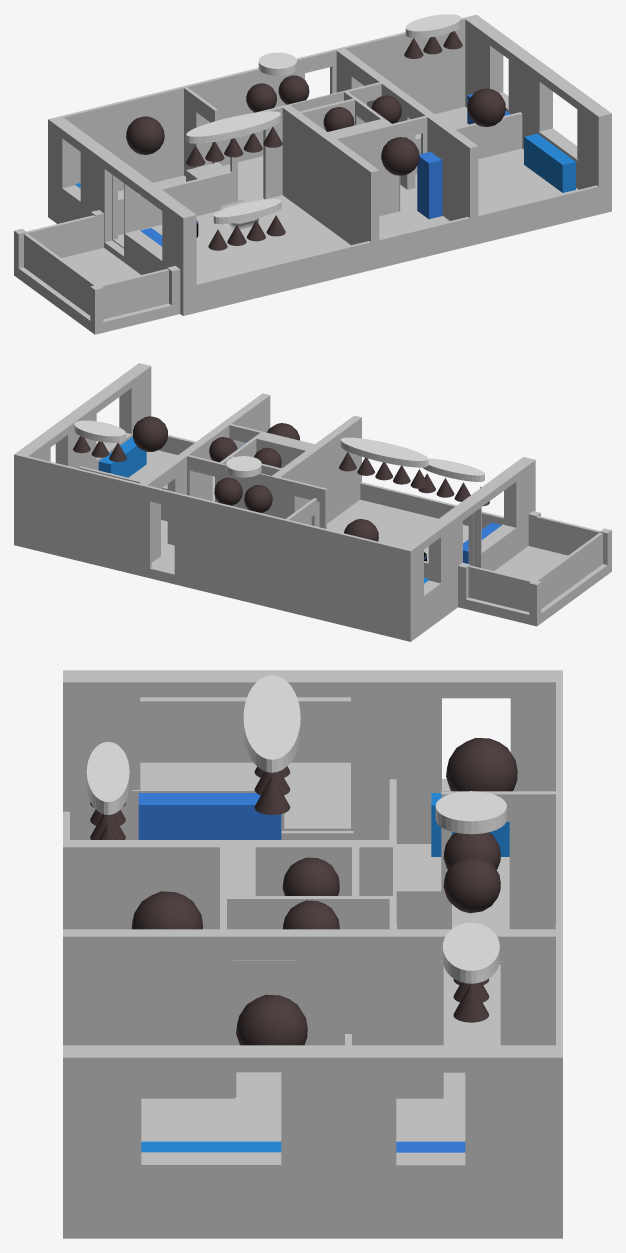
Rendered from home.gltf.
The picture shows the model from 3 angles, top to bottom: view 1: azimuth 30°, elevation 25°; view 2: azimuth 150°, elevation 25°; view 3: azimuth 270°, elevation 25°; orthographic projection. The views are drawn at different scales.
Parts seen in each view (by area): view 1: Rooms, Ground, Office Heater, Livingroom Center Light Group, Bathroom Heater, Bathroom, Office Bulb, Kitchen, Livingroom Malms Light Group, Bedroom Light Group, Hallway Light Group, Hallway Light 2 Frame (+3 smaller); view 2: Rooms, Ground, Livingroom Center Light Group, Office Heater, Office Bulb, Bedroom Light Group, Livingroom Malms Light Group, Hallway Light Group, Hallway Light 1 Frame, Hallway Light 2 Frame, Kitchen, Corridor (+1 smaller); view 3: Rooms, Ground, Livingroom Heater, Livingroom Center Light Group, Kitchen, Office Bulb, Bedroom Light Group, Hallway Light Group, Livingroom Malms Light Group, Hallway Light 2 Frame, Bathroom, Toilet Bulb (+7 smaller).
Boxes of the visible parts, x1,y1,x2,y2 form: Rooms: [14, 14, 611, 324]; Ground: [14, 106, 611, 334]; Office Heater: [524, 133, 575, 192]; Livingroom Center Light Group: [186, 111, 280, 143]; Bathroom Heater: [417, 151, 442, 219]; Bathroom: [381, 137, 419, 175]; Office Bulb: [467, 88, 505, 126]; Kitchen: [126, 116, 164, 154]; Livingroom Malms Light Group: [213, 199, 281, 224]; Bedroom Light Group: [405, 14, 461, 38]; Hallway Light Group: [258, 52, 296, 75]; Hallway Light 2 Frame: [278, 75, 309, 104]; Rooms: [14, 363, 611, 632]; Ground: [14, 450, 611, 641]; Livingroom Center Light Group: [340, 437, 428, 467]; Office Heater: [98, 437, 146, 477]; Office Bulb: [132, 416, 167, 451]; Bedroom Light Group: [74, 420, 125, 442]; Livingroom Malms Light Group: [422, 458, 484, 481]; Hallway Light Group: [226, 456, 261, 477]; Hallway Light 1 Frame: [244, 485, 272, 512]; Hallway Light 2 Frame: [214, 477, 242, 505]; Kitchen: [344, 519, 378, 541]; Corridor: [209, 437, 237, 462]; Rooms: [63, 670, 562, 1219]; Ground: [63, 762, 562, 1238]; Livingroom Heater: [138, 793, 281, 839]; Livingroom Center Light Group: [243, 675, 300, 772]; Kitchen: [446, 738, 517, 791]; Office Bulb: [236, 994, 307, 1045]; Bedroom Light Group: [442, 922, 499, 983]; Hallway Light Group: [435, 791, 506, 834]; Livingroom Malms Light Group: [86, 741, 129, 814]; Hallway Light 2 Frame: [443, 856, 500, 913]; Bathroom: [131, 891, 202, 929]; Toilet Bulb: [282, 857, 339, 895].
Size of the model in its own units: 15.38 by 3.56 by 7.01.
28 materials, 2 textured.
